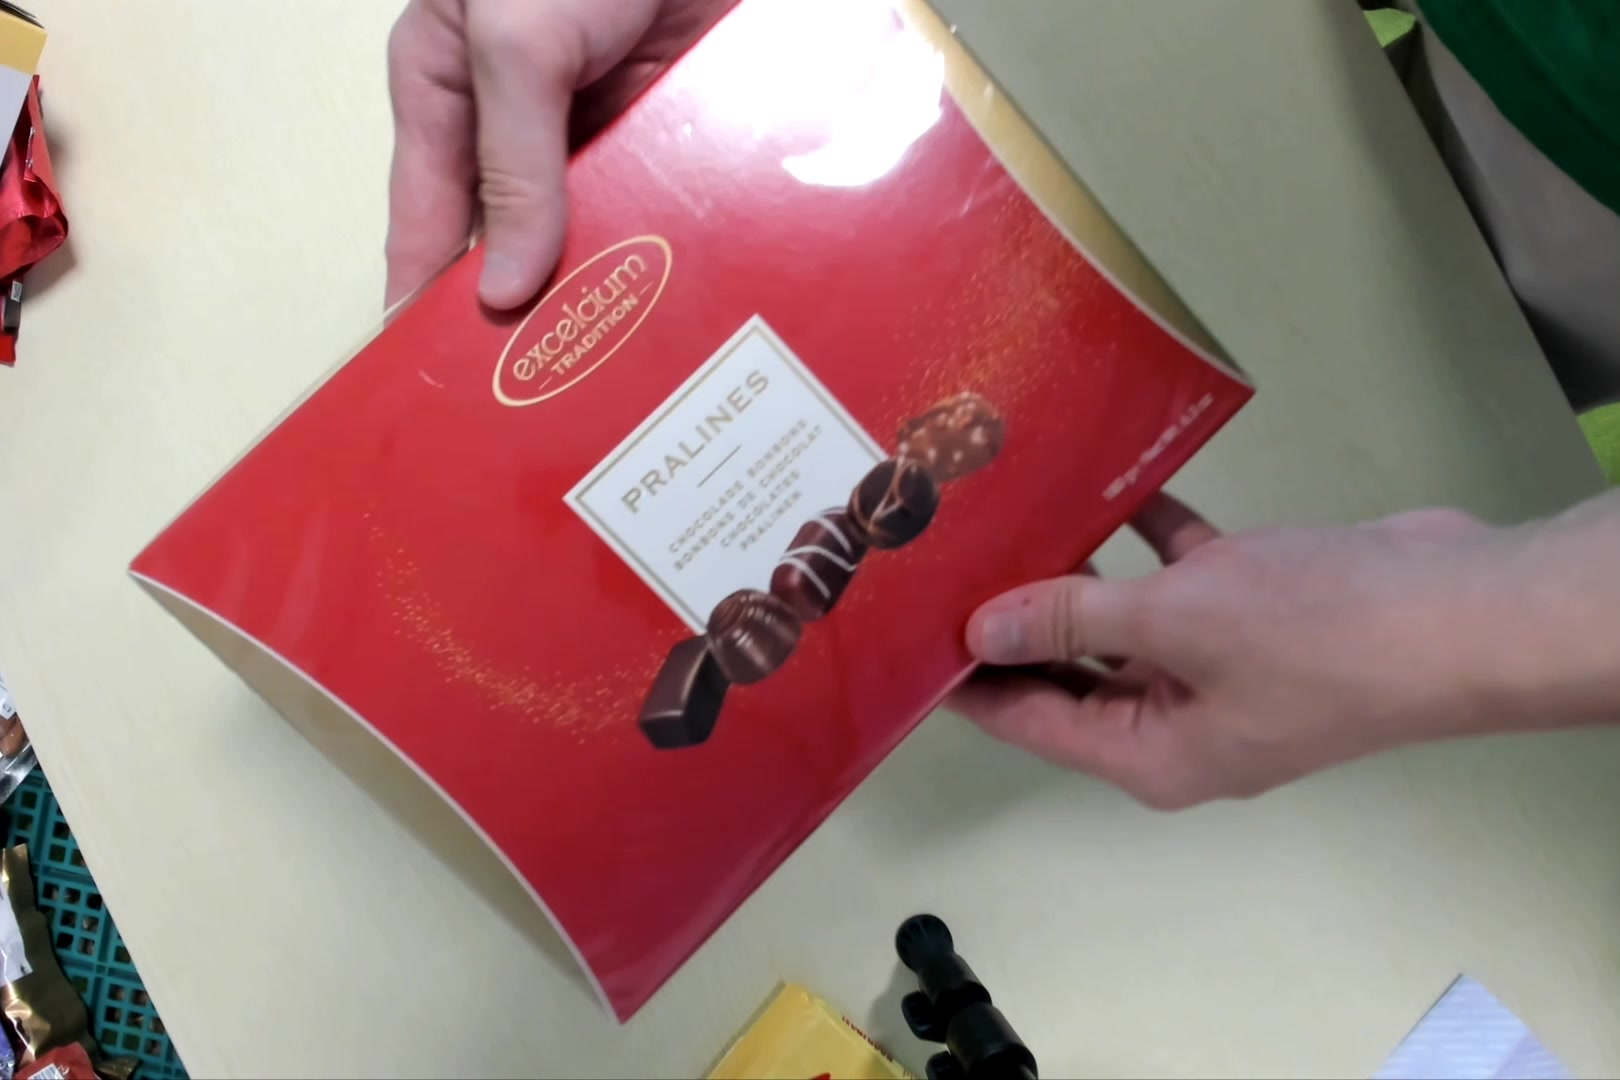SweetsChocolatesOthers_100-199g_NonHalal_NonHealthy: (129, 1, 1262, 1029)
